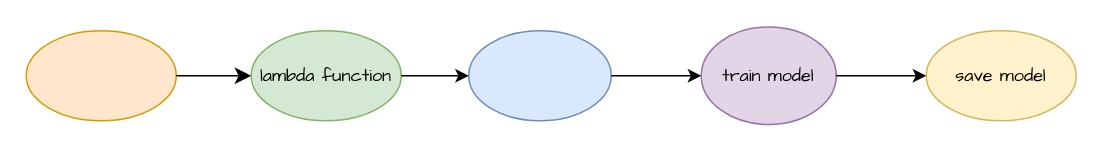
Some shapes in this 1103 by 150 pixel diagram are drawn without their labels. Here are the shapes that lost their labels. From the top down, the box of each, then its label:
(25, 29, 176, 121): amazon s3
(467, 29, 611, 121): process data
